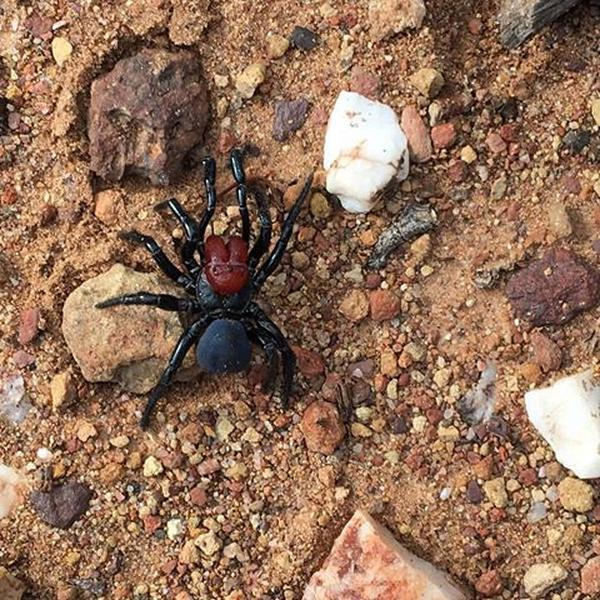Red Headed Mouse Spider: (107, 157, 301, 428)
